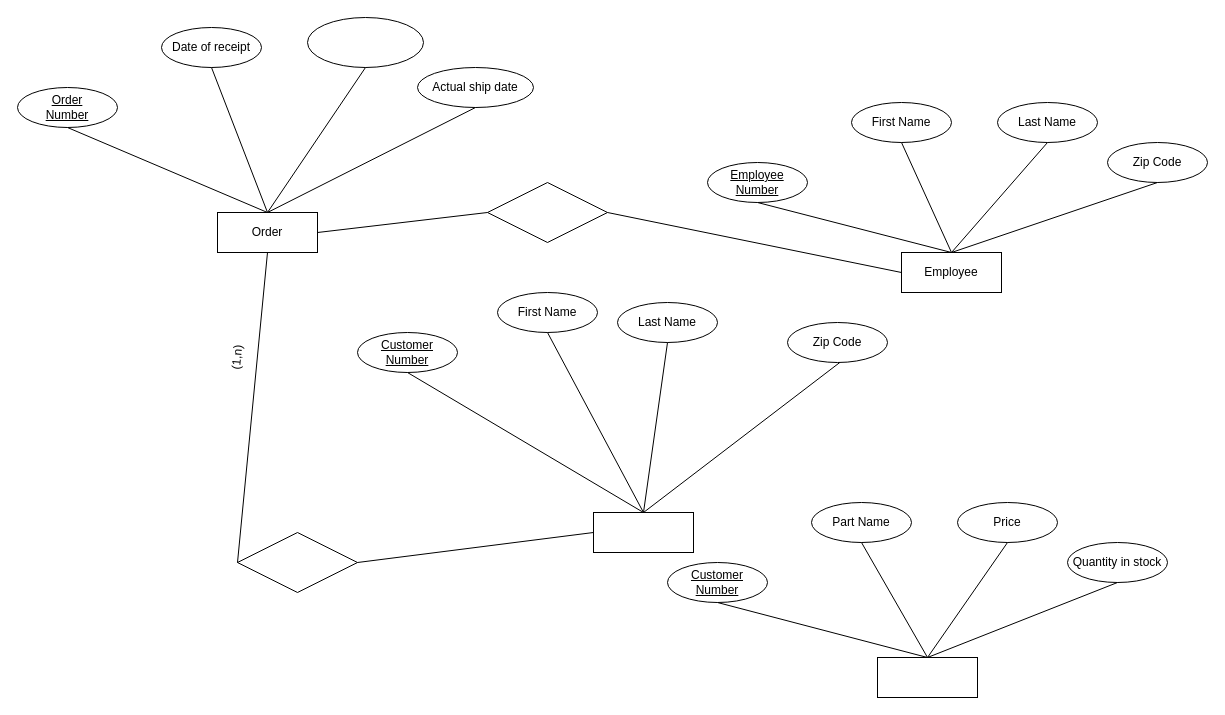
This 1225x715 diagram has some shape labels left out. Here are the shapes that lost their labels. From the top down, the centre of each, then its label:
At [365,42]: "Expected ship date".
At [547,212]: "Take".
At [643,532]: "Customer".
At [297,562]: "Place".
At [927,677]: "Part".
